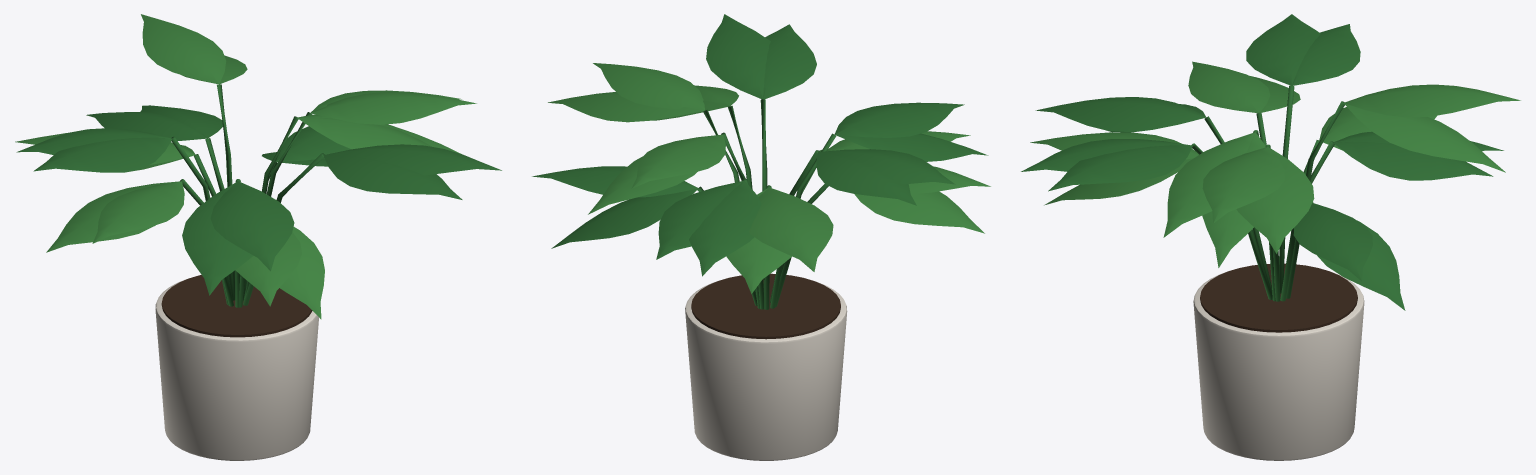
The model's file is plant_monstera.glb.
3 renders of one model, left to right at view 1: azimuth 30°, elevation 25°; view 2: azimuth 150°, elevation 25°; view 3: azimuth 270°, elevation 25°, orthographic. The views are drawn at different scales.
Parts seen in each view (by area): view 1: cyl, cyl.001, leaf.015, leaf.005, leaf, leaf.011, leaf.018, leaf.013, leaf.014, leaf.019, leaf.020, leaf.017 (+8 smaller); view 2: cyl, cyl.001, leaf.009, leaf.019, leaf.007, leaf.015, leaf, leaf.003, leaf.005, leaf.012, leaf.018, leaf.010 (+12 smaller); view 3: cyl, cyl.001, leaf.015, leaf.004, leaf, leaf.005, leaf.002, leaf.019, leaf.001, leaf.006, leaf.020, leaf.011 (+12 smaller).
Part boxes in pixels (left/top/right/bottom): cyl: left=155, top=279, right=318, bottom=460; cyl.001: left=161, top=275, right=312, bottom=337; leaf.015: left=210, top=181, right=294, bottom=271; leaf.005: left=141, top=14, right=226, bottom=84; leaf: left=310, top=92, right=476, bottom=124; leaf.011: left=33, top=137, right=172, bottom=172; leaf.018: left=323, top=155, right=462, bottom=199; leaf.013: left=92, top=181, right=184, bottom=243; leaf.014: left=182, top=181, right=253, bottom=295; leaf.019: left=324, top=144, right=501, bottom=175; leaf.020: left=297, top=117, right=431, bottom=149; leaf.017: left=279, top=227, right=324, bottom=319; cyl: left=685, top=281, right=847, bottom=460; cyl.001: left=691, top=273, right=840, bottom=339; leaf.009: left=748, top=187, right=833, bottom=271; leaf.019: left=706, top=14, right=770, bottom=99; leaf.007: left=689, top=181, right=761, bottom=276; leaf.015: left=834, top=102, right=964, bottom=137; leaf: left=593, top=63, right=704, bottom=110; leaf.003: left=551, top=188, right=698, bottom=248; leaf.005: left=631, top=134, right=725, bottom=188; leaf.012: left=854, top=191, right=984, bottom=233; leaf.018: left=763, top=24, right=816, bottom=99; leaf.010: left=816, top=152, right=916, bottom=205; cyl: left=1193, top=272, right=1364, bottom=460; cyl.001: left=1200, top=263, right=1357, bottom=332; leaf.015: left=1035, top=97, right=1205, bottom=131; leaf.004: left=1344, top=103, right=1505, bottom=172; leaf: left=1202, top=147, right=1284, bottom=223; leaf.005: left=1344, top=84, right=1520, bottom=117; leaf.002: left=1293, top=203, right=1372, bottom=281; leaf.019: left=1048, top=145, right=1192, bottom=191; leaf.001: left=1236, top=147, right=1314, bottom=253; leaf.006: left=1333, top=141, right=1493, bottom=180; leaf.020: left=1163, top=132, right=1255, bottom=237; leaf.011: left=1246, top=14, right=1320, bottom=85.
Bounding box in the file's own units: 115 × 85 × 111.
